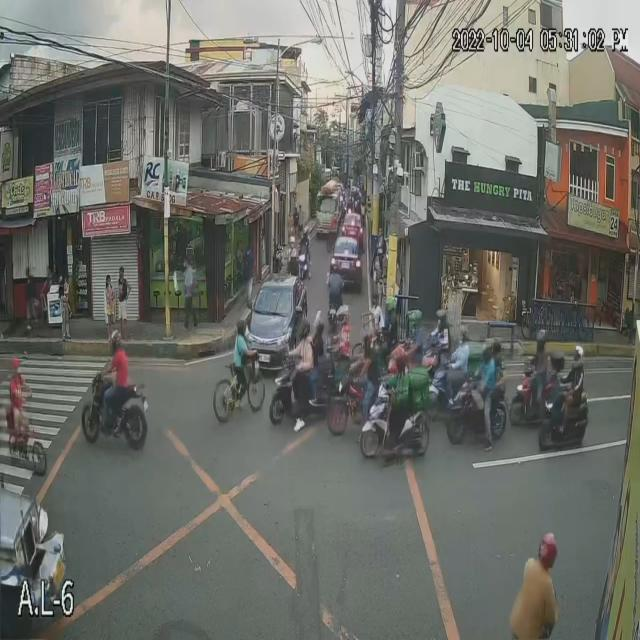full: (109, 328, 122, 352), (572, 345, 584, 370), (299, 316, 312, 339), (458, 324, 469, 350), (336, 304, 350, 324), (481, 341, 493, 364), (535, 329, 547, 352), (435, 308, 446, 328)
half: (539, 532, 559, 574), (392, 344, 408, 372), (314, 316, 326, 338), (385, 296, 399, 312)
